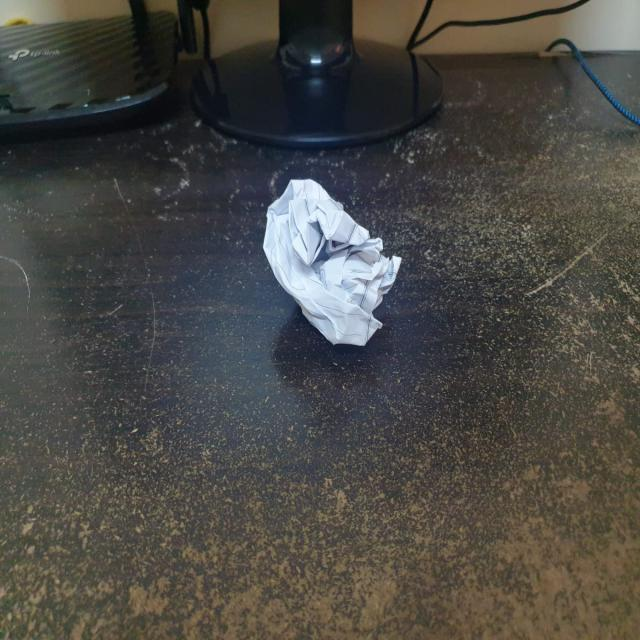Paper: (263, 177, 402, 338)
